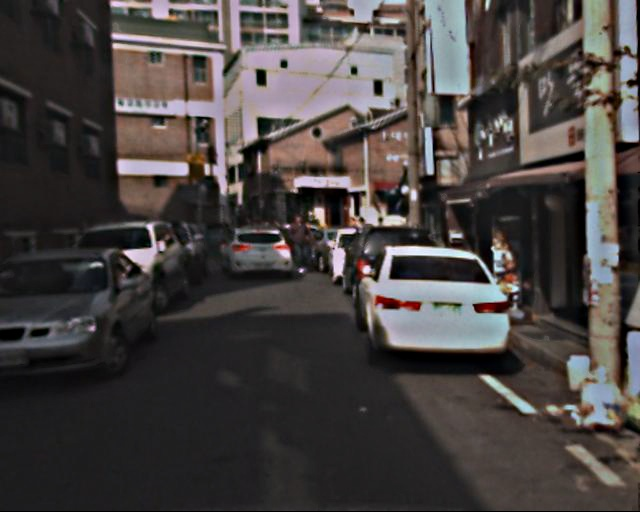person: (286, 214, 311, 275), (297, 222, 318, 273)
